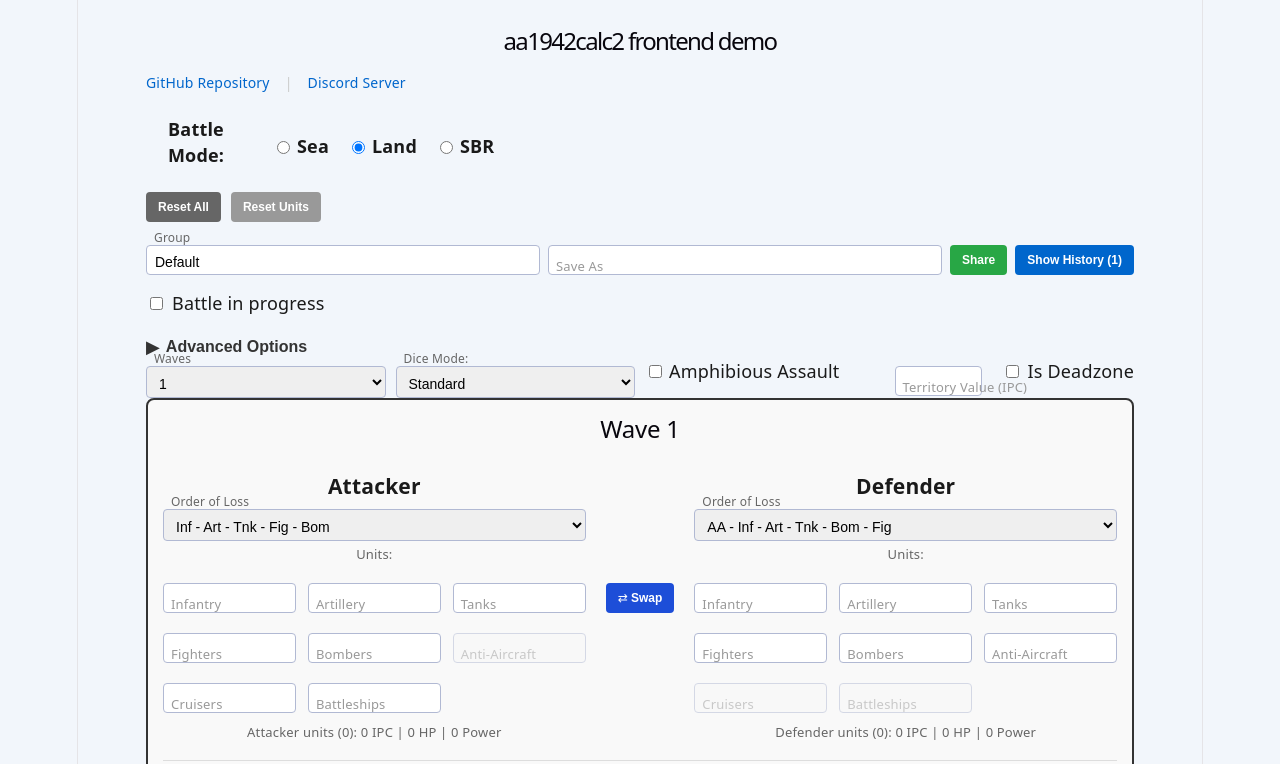
Scenario: grouped history › migrates legacy id-keyed history into the Default group
Click the button "Show History (1)": coordinates (1075, 260) [1015,245,1134,275]
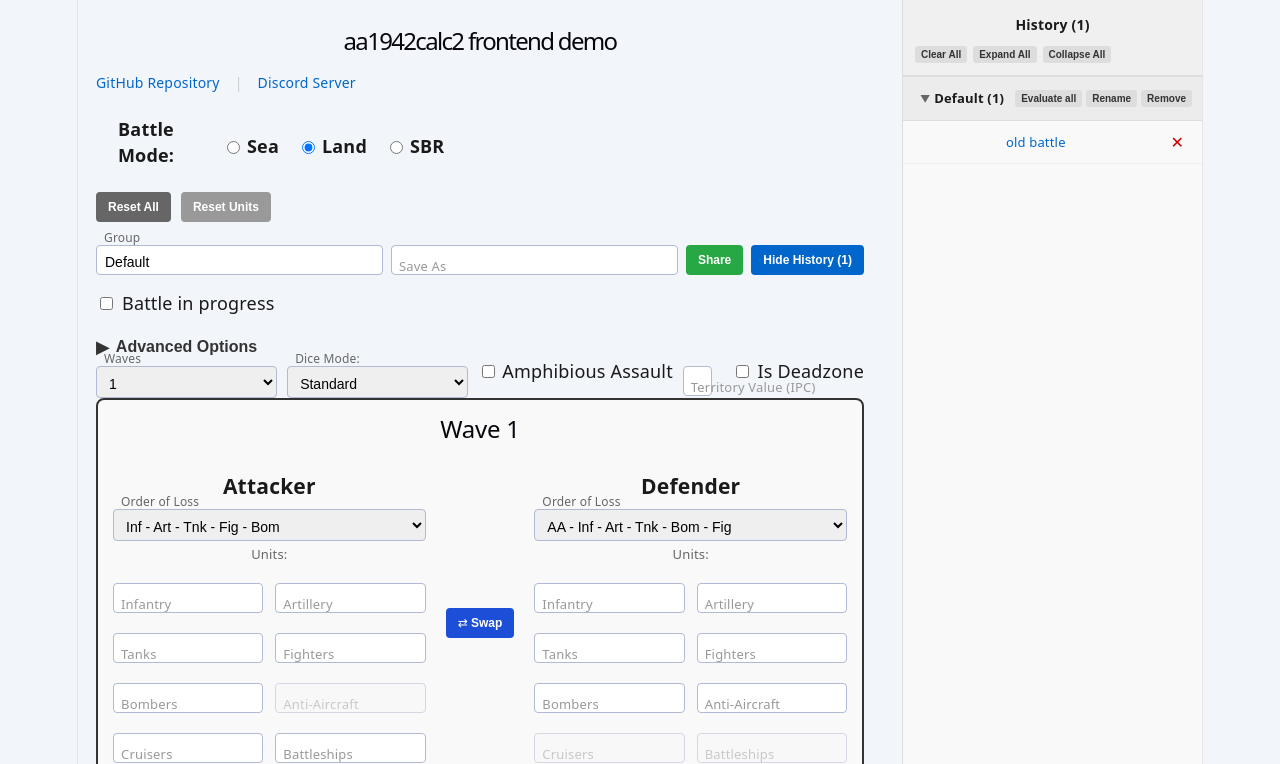
Check: the element titled "Default" shows "Default (1)", box [913,85,1011,112]
Check: the text "old battle" is shown, box [1006,133,1066,151]
